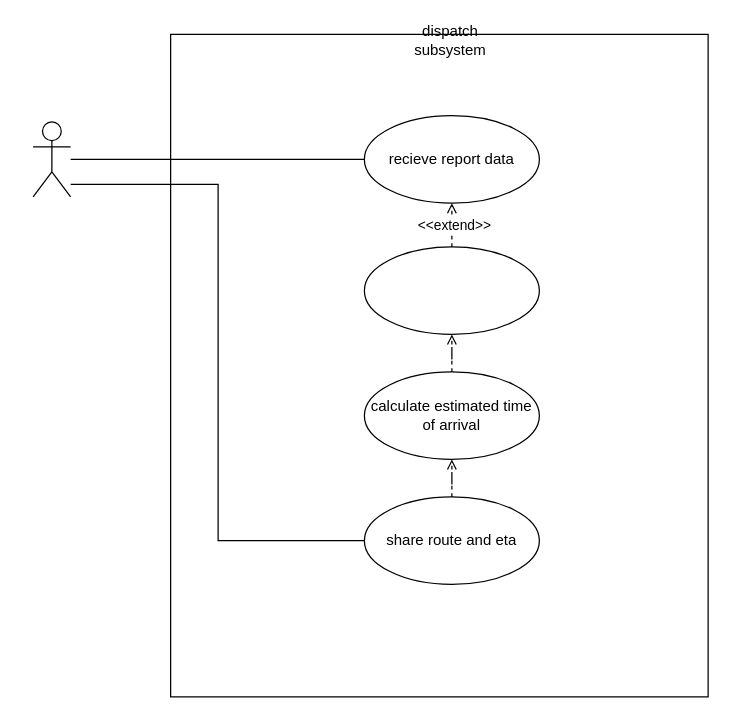
Some shapes in this 730 by 719 pixel diagram are drawn without their labels. Each missing label, with the centre of its shape:
determine route: pixel 451 290
response team: pixel 51 159
